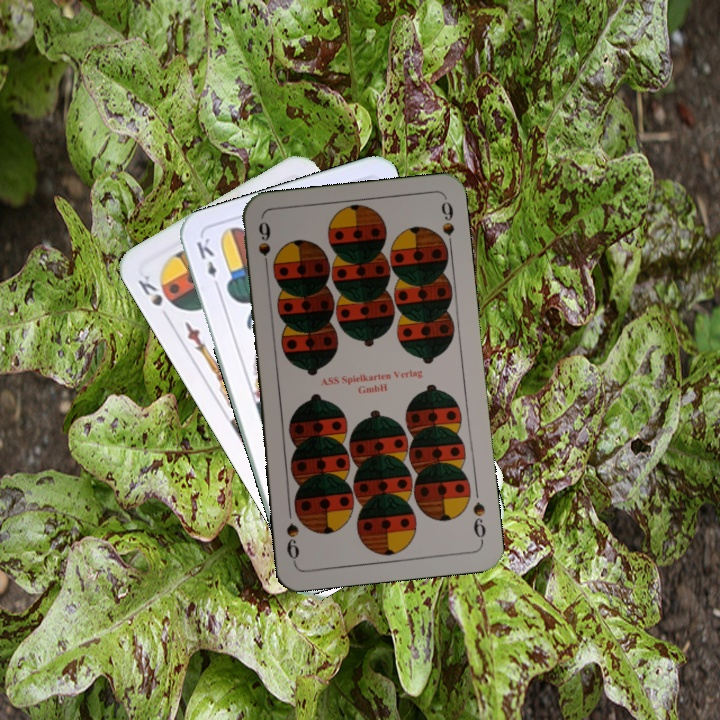EK: (192, 233, 223, 293)
S9: (254, 217, 274, 276), (469, 498, 488, 545)
SK: (134, 270, 166, 309)
